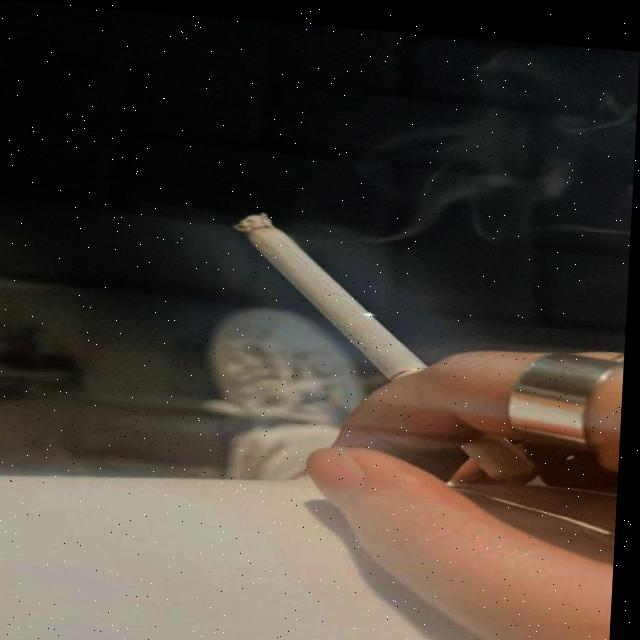cigarette: (227, 206, 551, 472)
